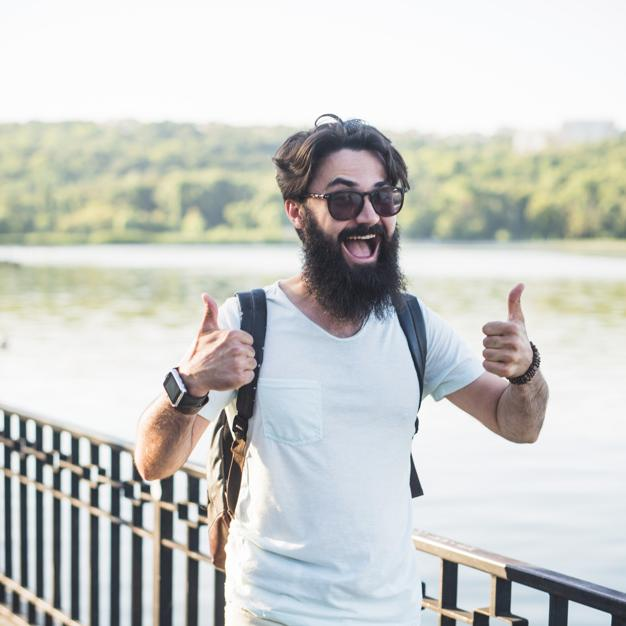thumbsup: (202, 293, 257, 388), (482, 282, 525, 377)
